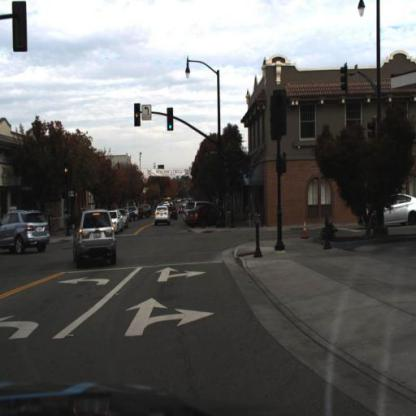car: (72, 208, 117, 266), (2, 210, 51, 258), (362, 193, 416, 228), (185, 207, 218, 227), (155, 205, 171, 225), (112, 212, 125, 235), (169, 205, 179, 223), (122, 211, 129, 230)
trafficLight: (62, 162, 69, 184), (135, 102, 141, 126)
trafficLight-Green: (168, 107, 173, 130)
